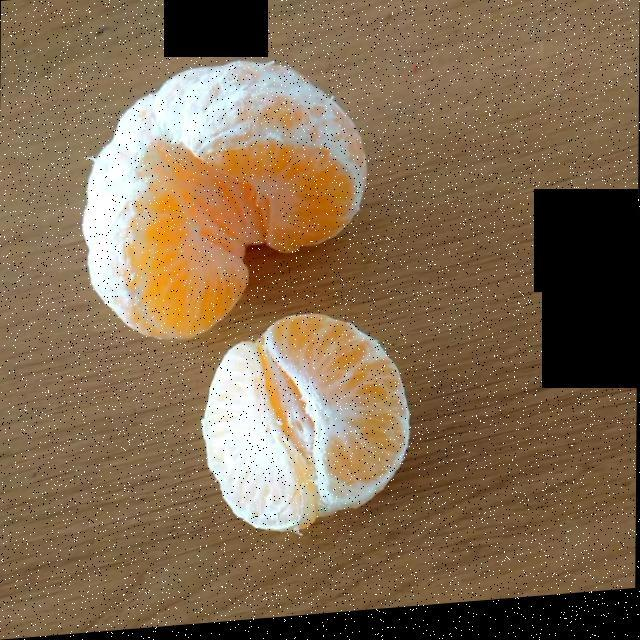mandarine: (77, 57, 414, 534)
